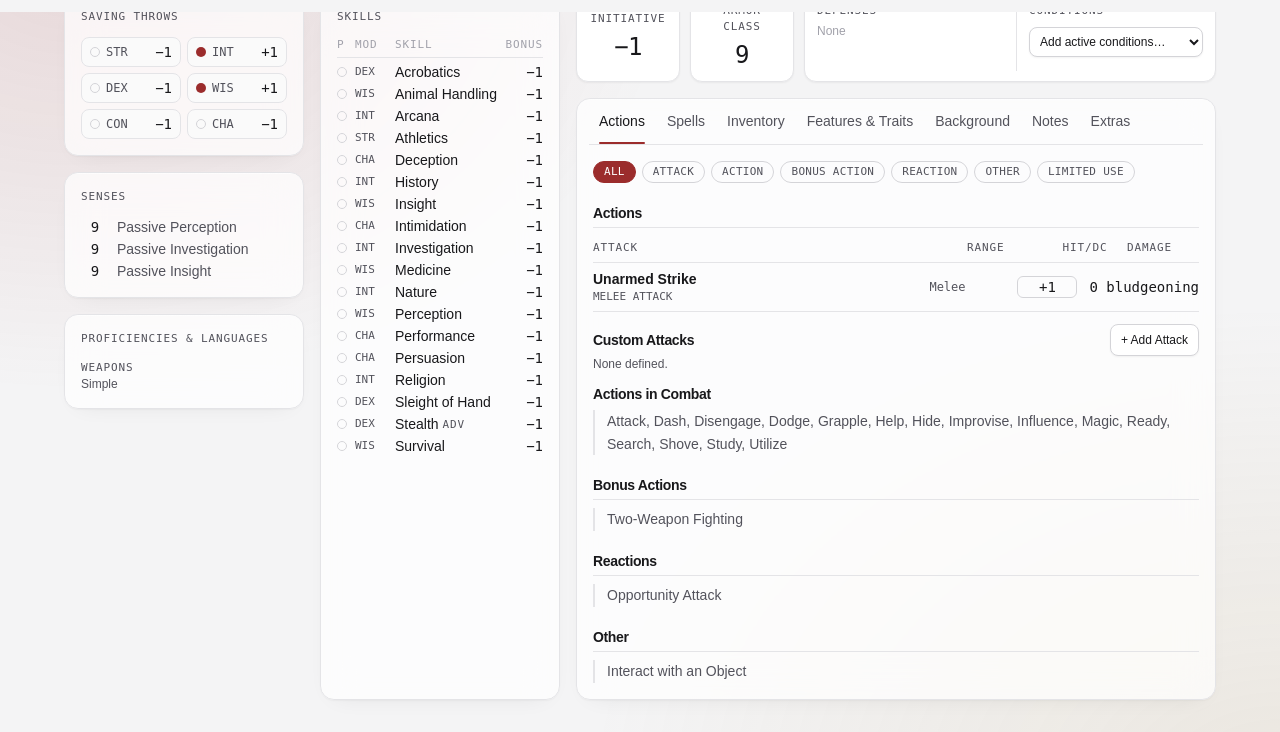
Test case: FullSheet interactivity › marks item-granted advantage on the skill and rolls with it
(page scrolled)
Check: the text "adv" is shown, box [443,418,465,431]
Click the button named "Roll Stealth": (535, 424) [526,414,543,434]
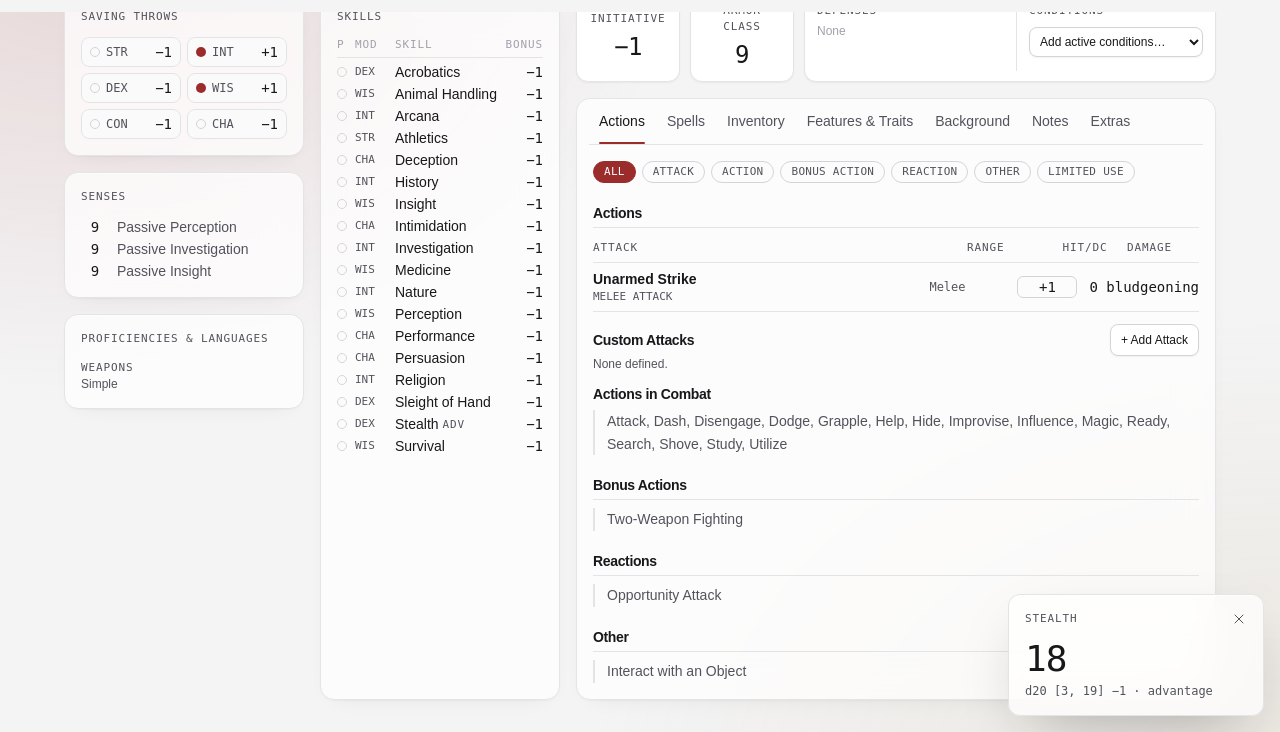
Check: the text "18" is shown, box [1025,638,1067,679]
Check: the text "d20 [3, 19] −1 · advantage" is shown, box [1025,684,1213,698]
